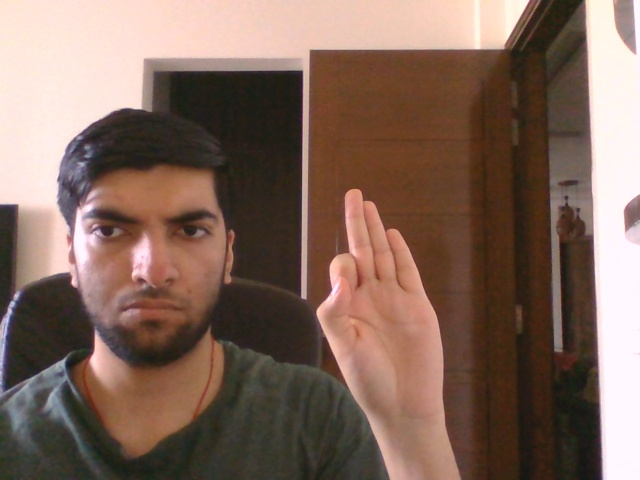LetterF: (315, 187, 445, 421)
